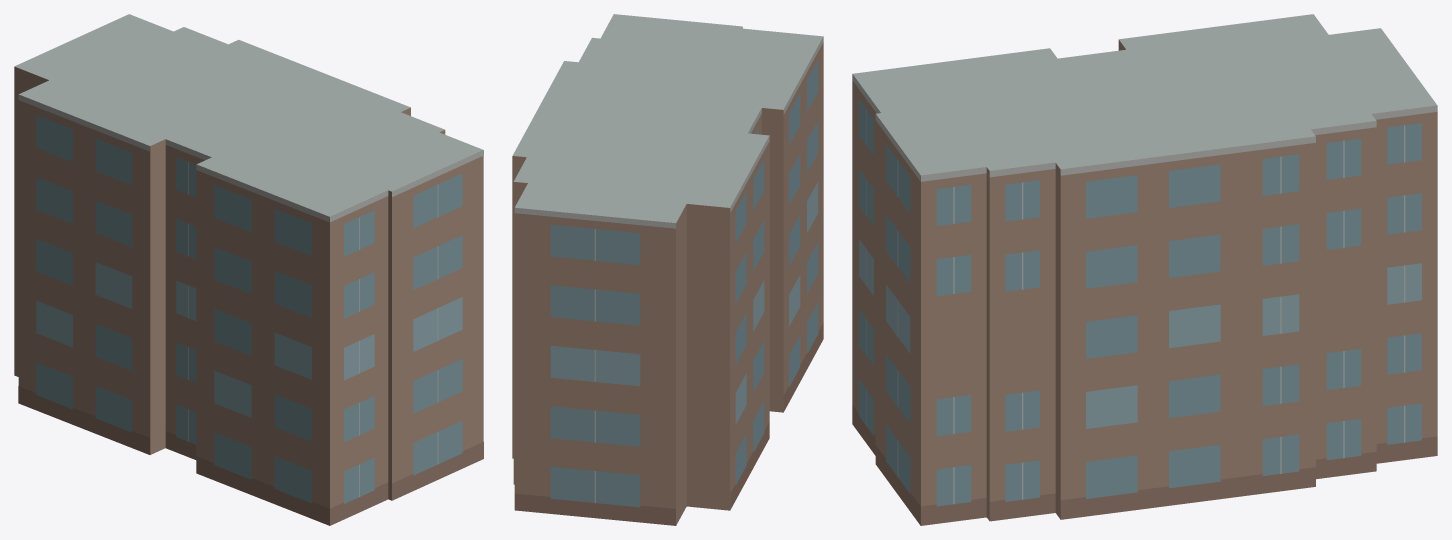
Rendered from survey-upis-32621119.glb.
3 views of the same model, side by side, from view 1: azimuth 30°, elevation 25°; view 2: azimuth 150°, elevation 25°; view 3: azimuth 270°, elevation 25° (orthographic). The views are drawn at different scales.
Visible parts, largest first — view 1: survey-upis-32621119.tmp; view 2: survey-upis-32621119.tmp; view 3: survey-upis-32621119.tmp.
Part boxes in pixels (x1=…): survey-upis-32621119.tmp: x1=14, y1=14, x2=483, y2=525; survey-upis-32621119.tmp: x1=512, y1=14, x2=823, y2=525; survey-upis-32621119.tmp: x1=852, y1=14, x2=1437, y2=525.
Bounding box in the file's own units: 13.36 × 13.5 × 20.44.
